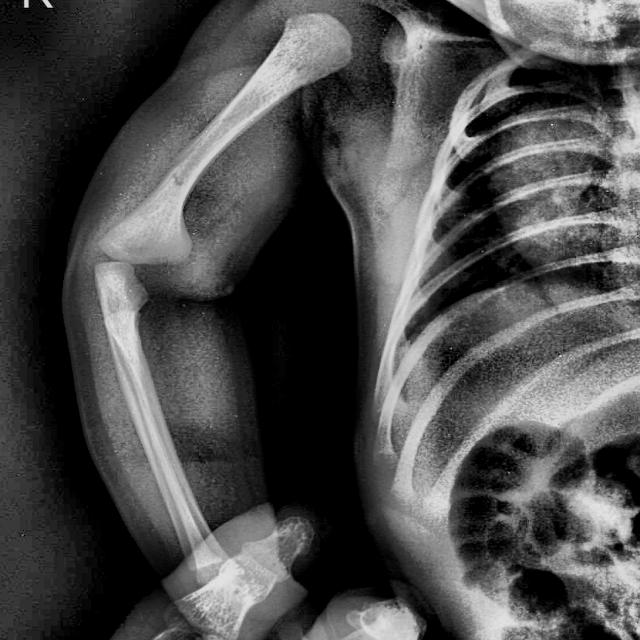line: (163, 170, 190, 194)
